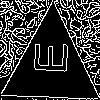E: (26, 40, 68, 76)
